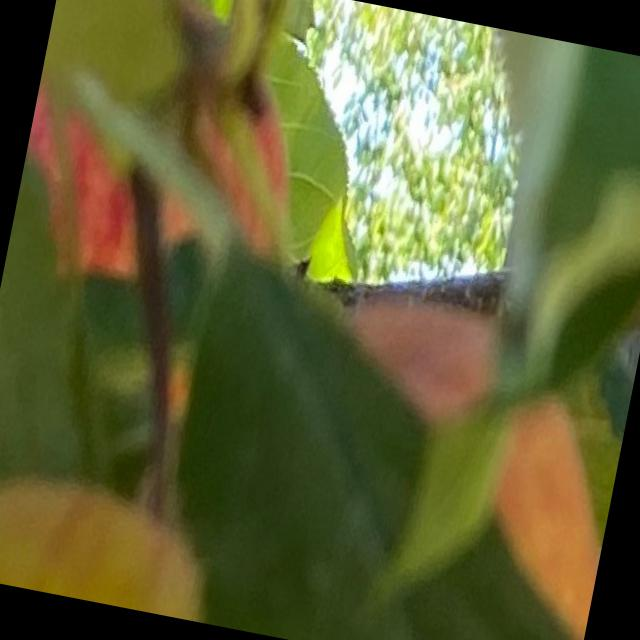Apples: (270, 272, 639, 639), (4, 0, 337, 321)
